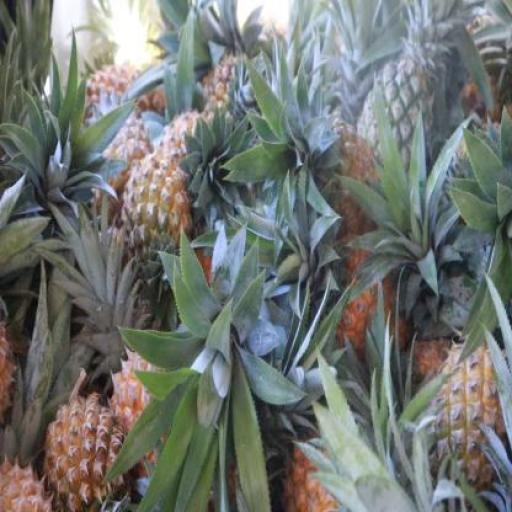------------------------------: (427, 347, 510, 500), (121, 148, 188, 280)
Pineapple - v8 v1: (44, 394, 121, 512)
